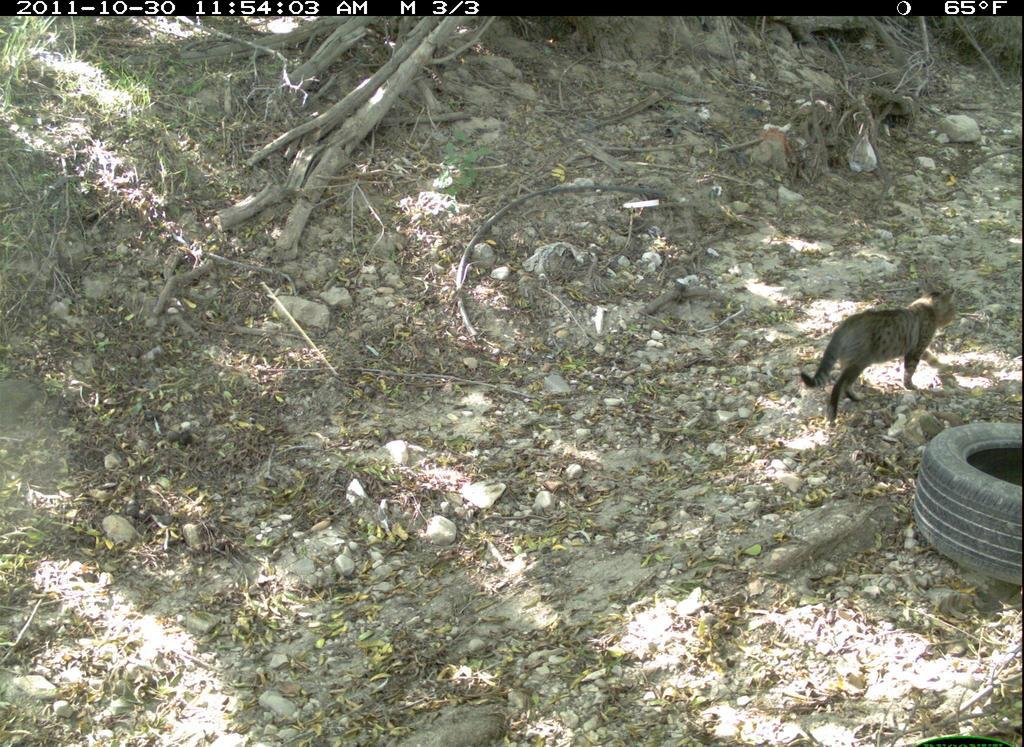cat: (793, 274, 963, 441)
